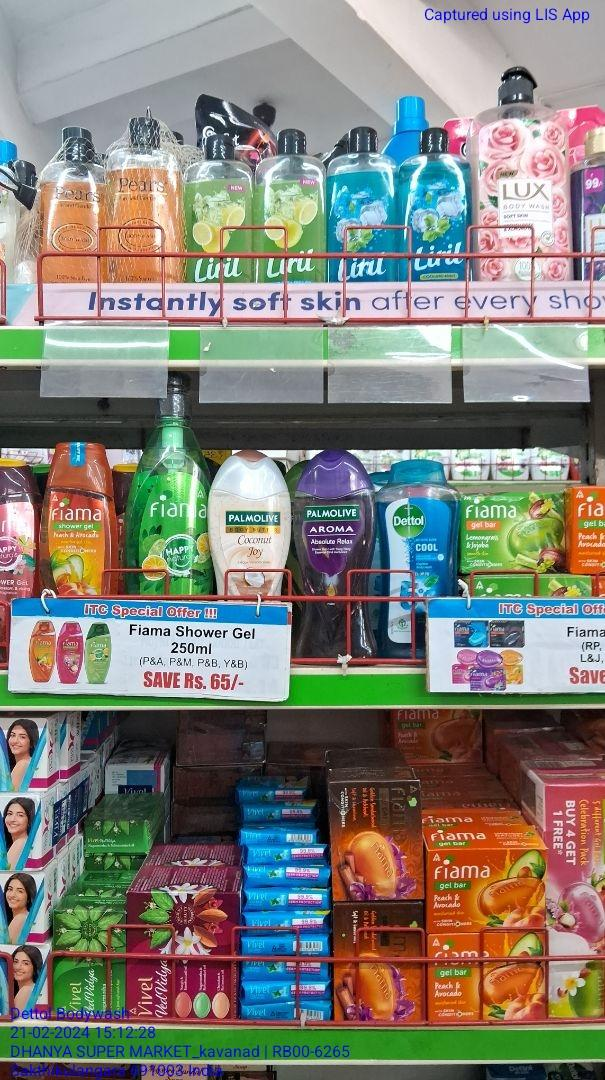Dettol_Bodywash_Cool: (375, 458, 457, 595)
Liril_Cooling_Mint_Body_Wash_250ML: (397, 124, 471, 279), (327, 123, 398, 280)
Liril_Lime_and_Tea_Tree_Oil_Body_Wash_250ML: (254, 126, 327, 280), (182, 134, 254, 281)
Palmolive_Aroma_Relax_250ML: (293, 449, 375, 663)
Palmolive_Coconut_Joy_Exfoliating_Body_Wash_250ML: (207, 448, 291, 595)
